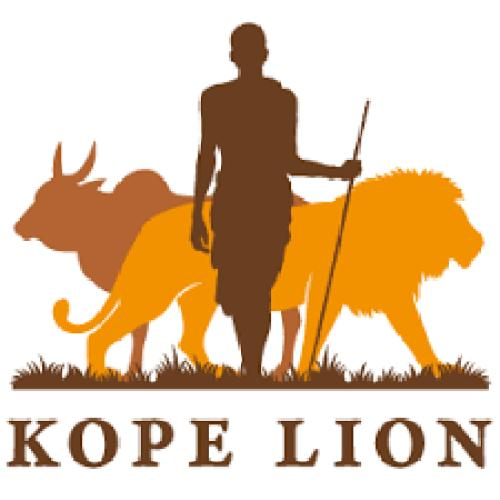lion-endangered: (56, 177, 485, 387)
